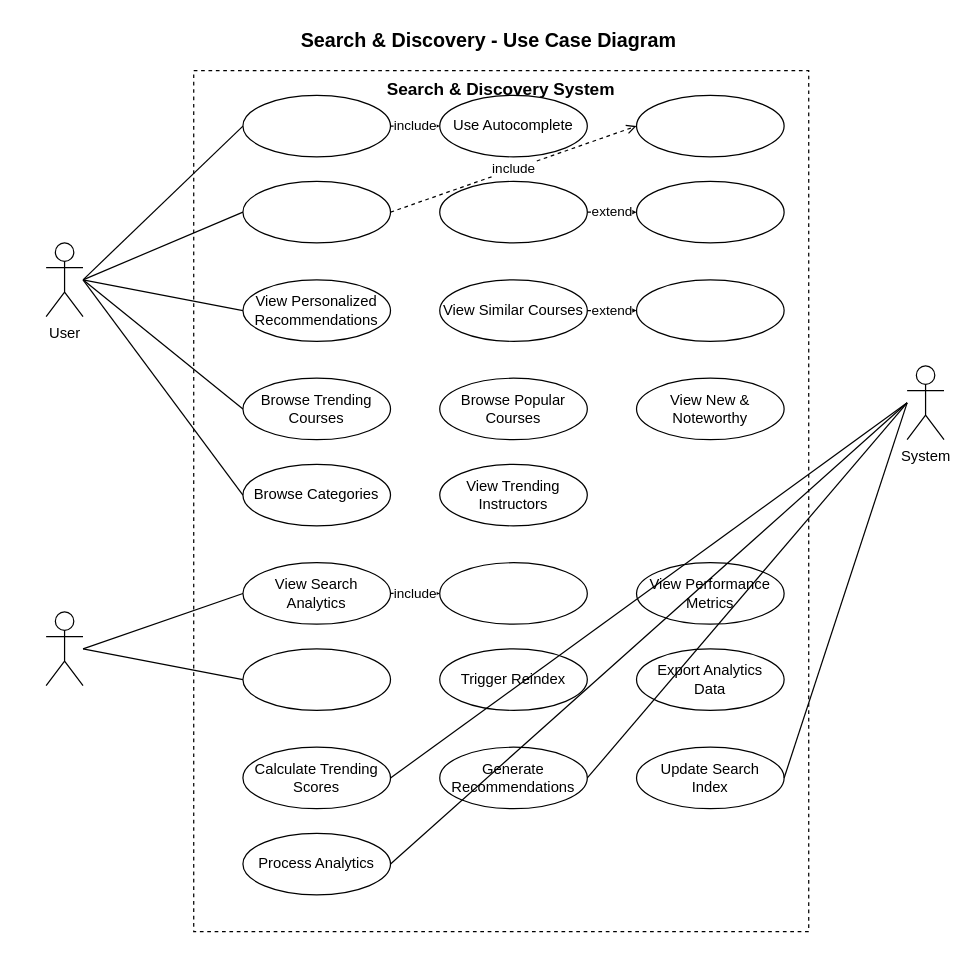
Image size: 972x953. Some labels were removed from this diagram. Each missing label, with the centre of its shape:
"Administrator" goes at (64,648).
"Advanced Search" goes at (709,211).
"Apply Filters" goes at (316,211).
"Refresh Recommendations" goes at (709,310).
"Search Courses" goes at (316,125).
"Sort Results" goes at (512,211).
"Tune Search Relevance" goes at (316,679).
"View Facets" goes at (709,125).
"View Popular Search Terms" goes at (512,592).
